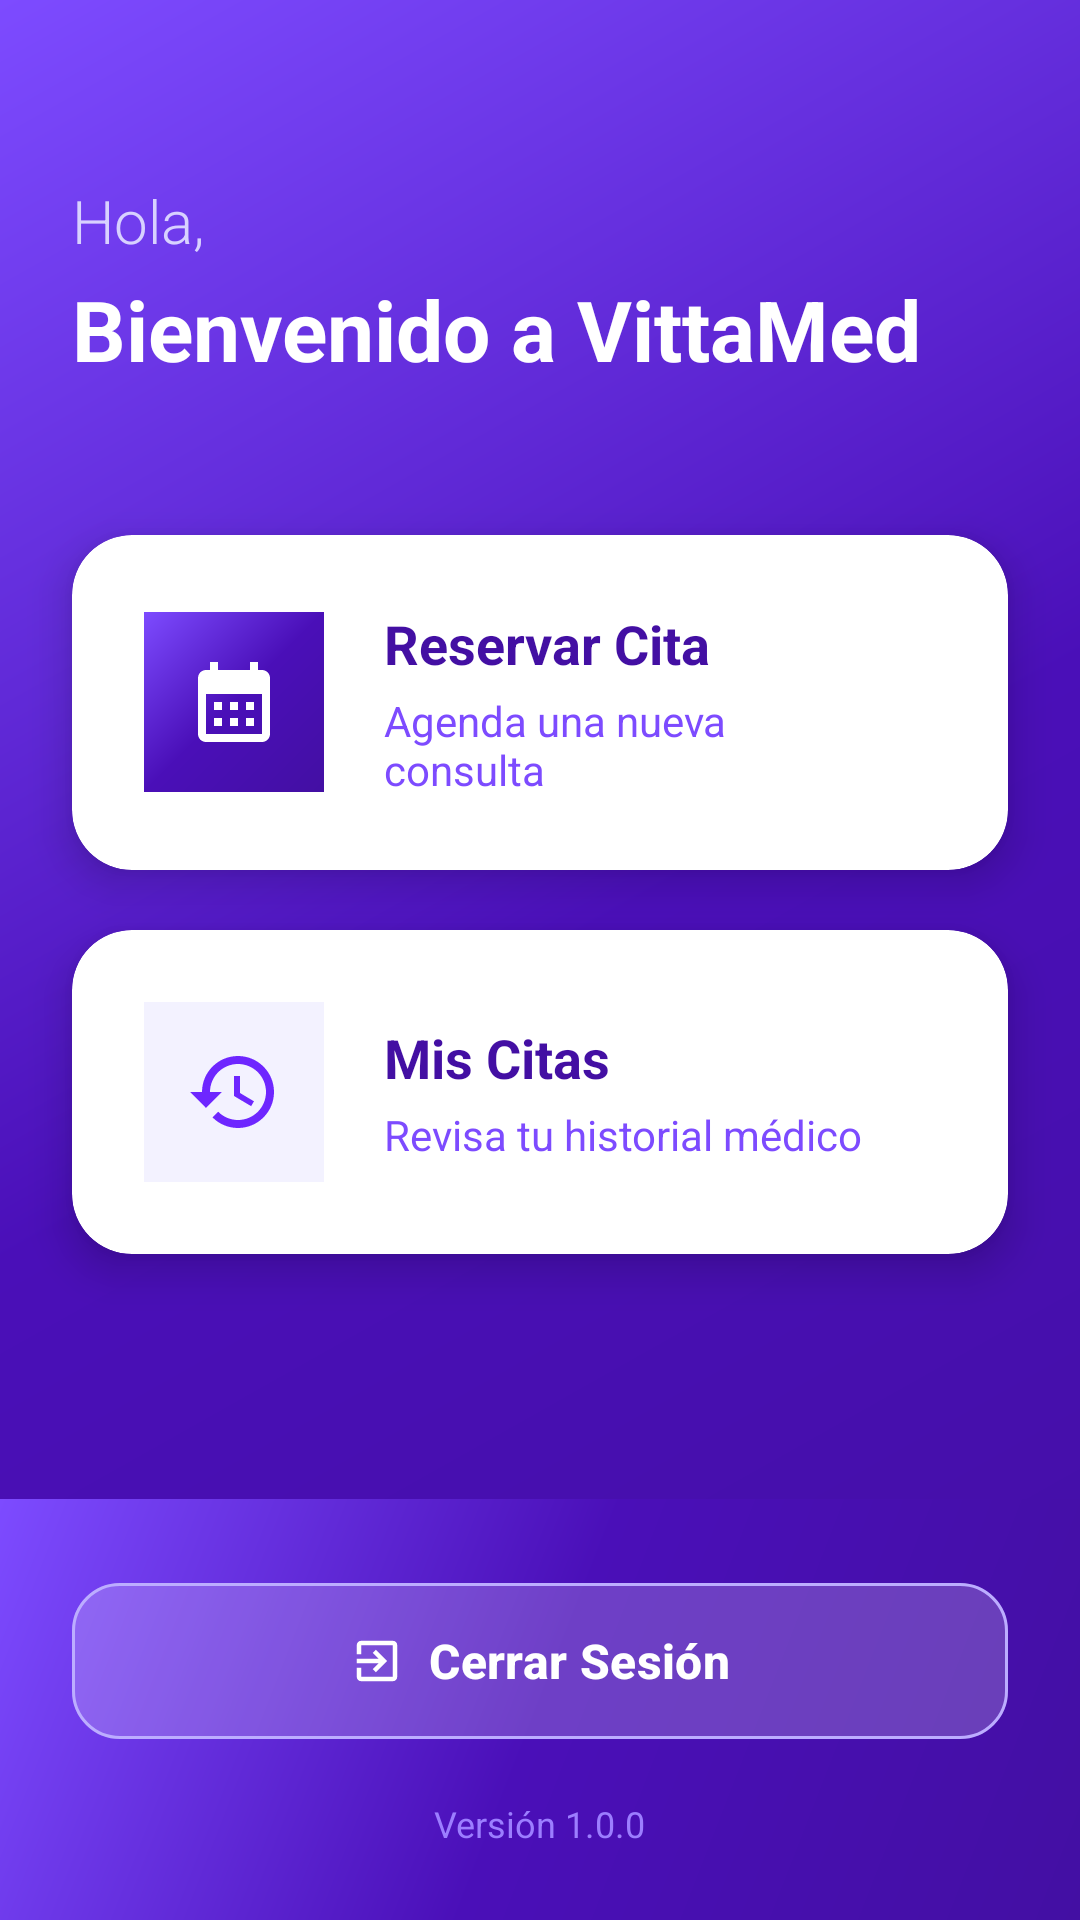

Icon click points for this 1080w x 1920h phone screenshot, format (x=x, y=y):
calendar modern: (x=228, y=698)
history modern: (x=232, y=1092)
